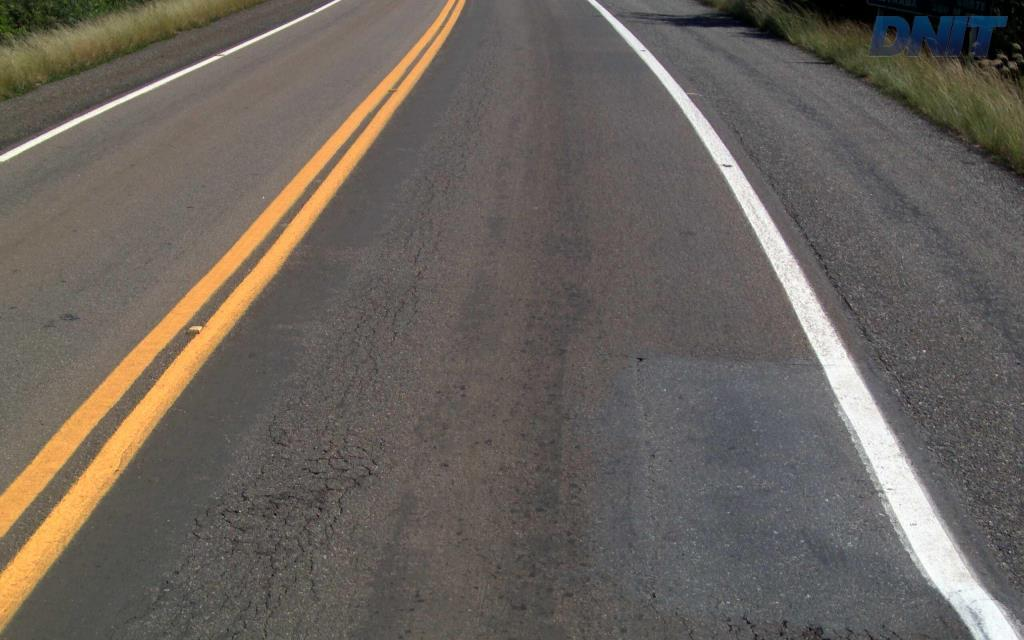crack: (246, 483, 341, 522), (740, 616, 837, 639)
